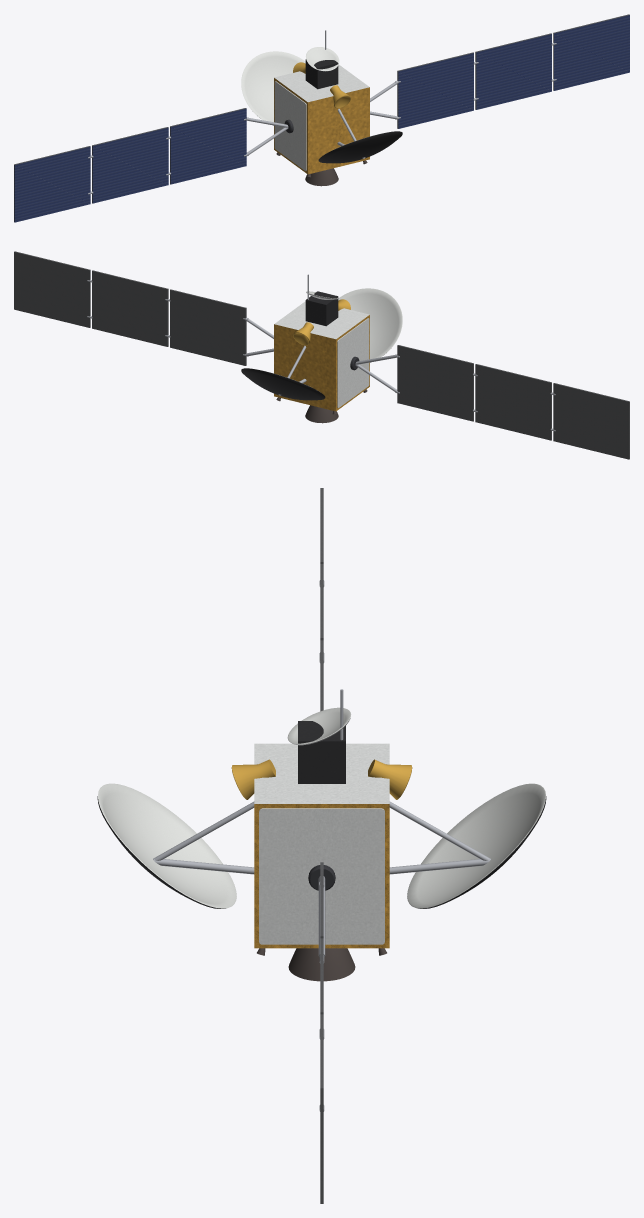
Rendered from innerscene_satellite_solar_wings.glb.
The picture shows the model from 3 angles, top to bottom: view 1: azimuth 30°, elevation 25°; view 2: azimuth 150°, elevation 25°; view 3: azimuth 270°, elevation 25°; orthographic projection. The views are drawn at different scales.
Visible parts, largest first — view 1: Solar wings, Bus, Antenna reflectors, Radiator panels, Antenna tower, Wing yokes and hinges, Antenna feeds and arms, Apogee engine and thrusters; view 2: Solar wings, Bus, Antenna reflectors, Radiator panels, Antenna tower, Wing yokes and hinges, Antenna feeds and arms, Apogee engine and thrusters; view 3: Radiator panels, Antenna reflectors, Bus, Antenna feeds and arms, Antenna tower, Solar wings, Apogee engine and thrusters, Wing yokes and hinges.
Boxes of the visible parts, x1,y1,x2,y2 form: Solar wings: [14, 14, 629, 222]; Bus: [274, 64, 369, 174]; Antenna reflectors: [241, 51, 402, 163]; Radiator panels: [274, 81, 306, 170]; Antenna tower: [305, 30, 339, 89]; Wing yokes and hinges: [88, 43, 556, 194]; Antenna feeds and arms: [293, 62, 365, 158]; Apogee engine and thrusters: [276, 152, 367, 186]; Solar wings: [14, 251, 629, 459]; Bus: [274, 301, 369, 411]; Antenna reflectors: [241, 288, 402, 400]; Radiator panels: [337, 318, 369, 407]; Antenna tower: [305, 274, 339, 326]; Wing yokes and hinges: [87, 280, 555, 431]; Antenna feeds and arms: [278, 299, 350, 395]; Apogee engine and thrusters: [276, 389, 367, 423]; Radiator panels: [259, 808, 384, 944]; Antenna reflectors: [97, 783, 546, 908]; Bus: [254, 743, 389, 948]; Antenna feeds and arms: [153, 759, 490, 874]; Antenna tower: [287, 689, 351, 783]; Solar wings: [320, 488, 323, 1203]; Apogee engine and thrusters: [257, 948, 386, 981]; Wing yokes and hinges: [308, 580, 335, 1111].
Size of the model in its own units: 17.84 by 3.96 by 5.64.
Materials: 12 (12 with a texture image).
